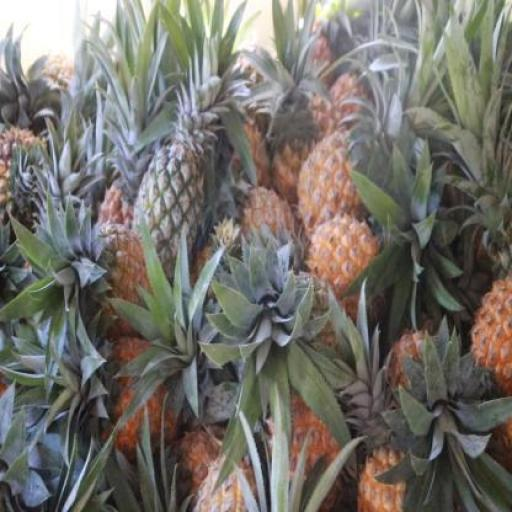Pineapple - v8 v1: (300, 139, 370, 241), (307, 219, 380, 307)
